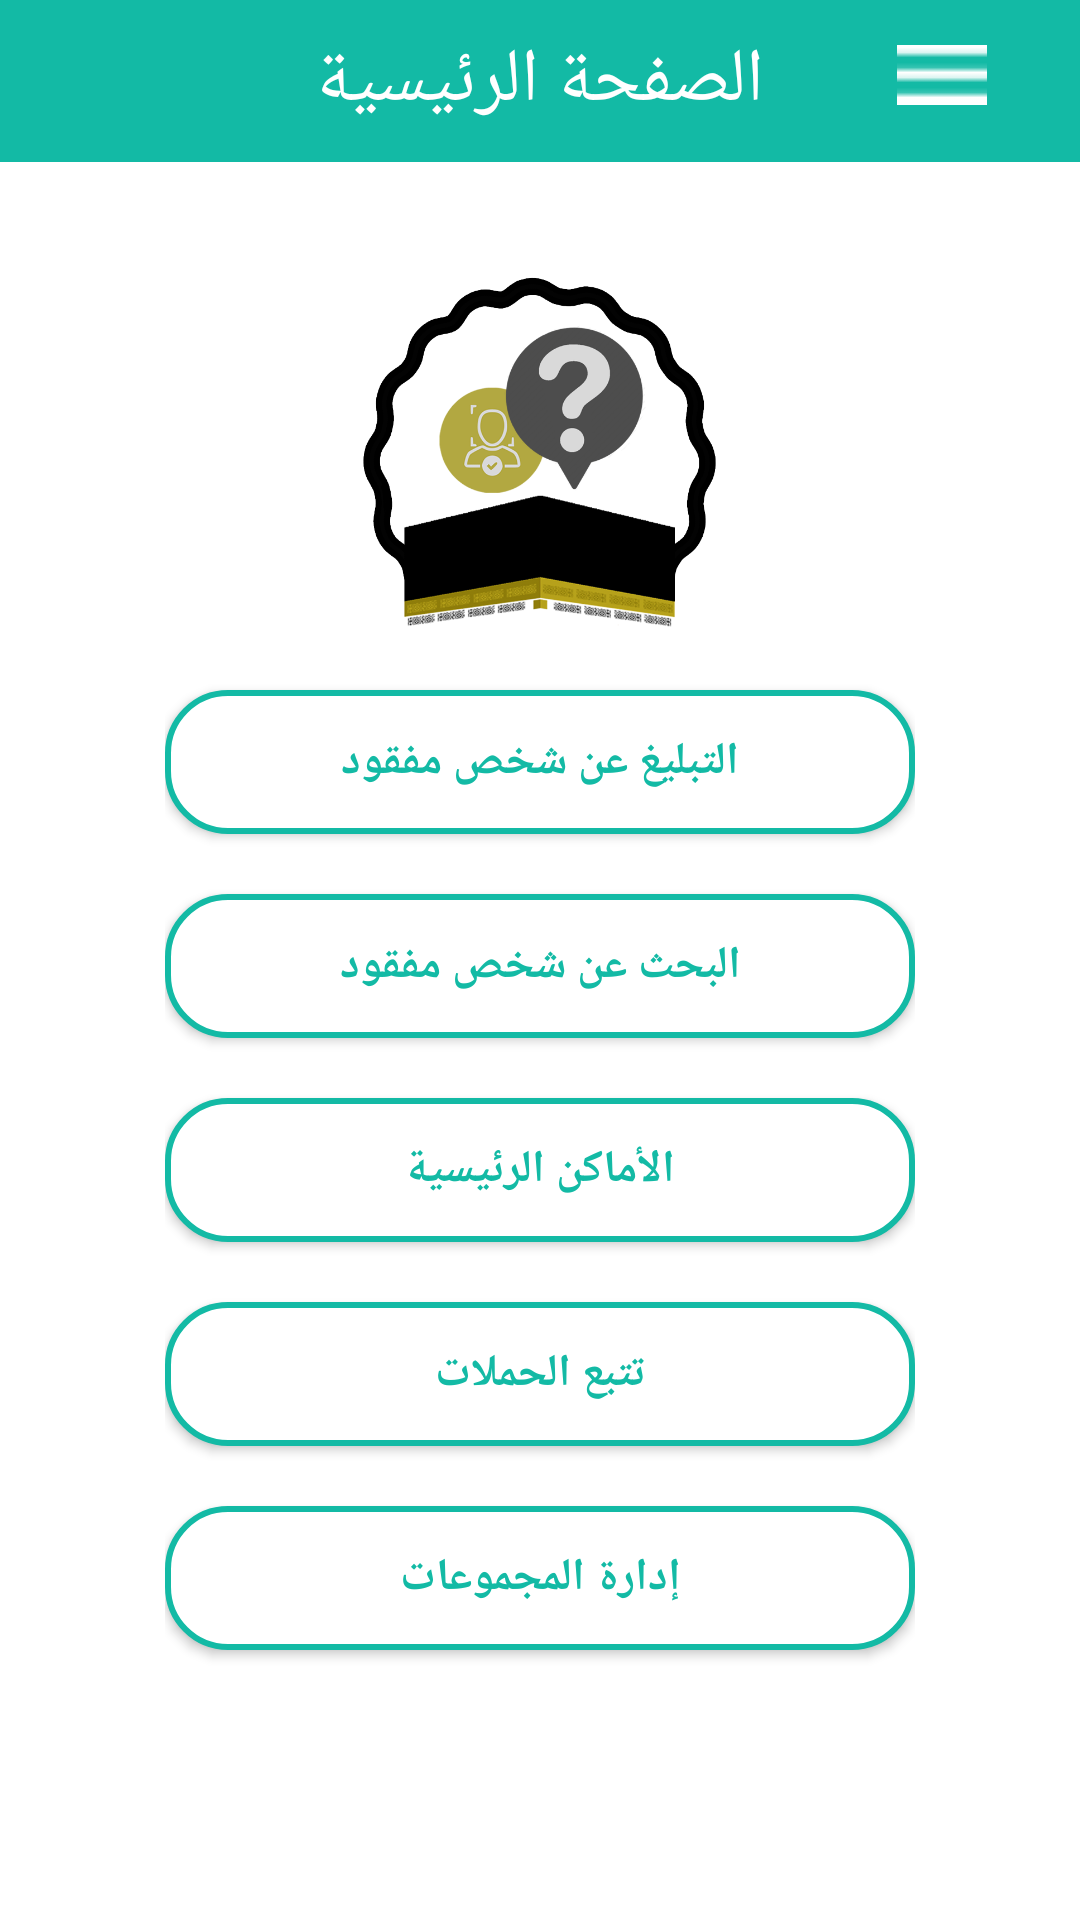

Icons on this 1080 × 1920 Android screen, each with its box as (x1, y1, x2, y2):
menu: (897, 45, 987, 105)
